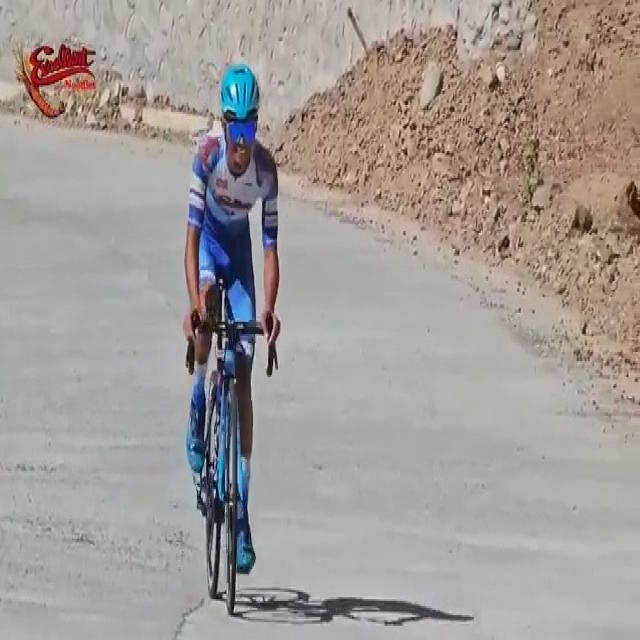bike: (184, 63, 288, 614)
